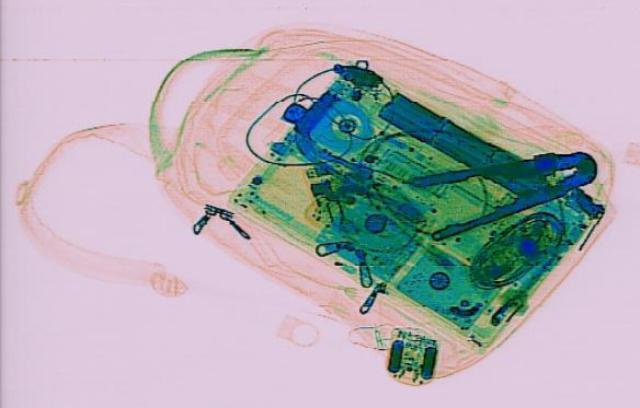Pliers: (394, 139, 618, 239)
